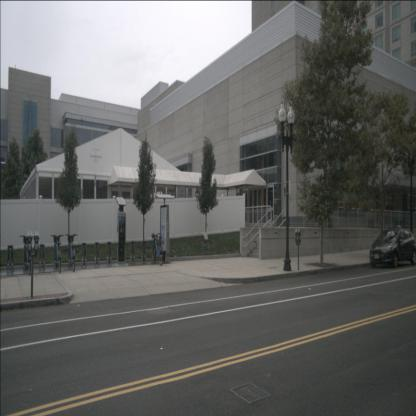vehicle-car: (369, 228, 416, 268)
